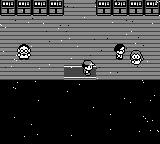main: (82, 61, 95, 76)
no-caminable: (1, 80, 160, 143), (97, 0, 160, 15), (1, 0, 63, 15)
npc: (17, 44, 33, 60), (129, 50, 144, 65), (114, 44, 126, 60)
puerta: (63, 63, 97, 80)
